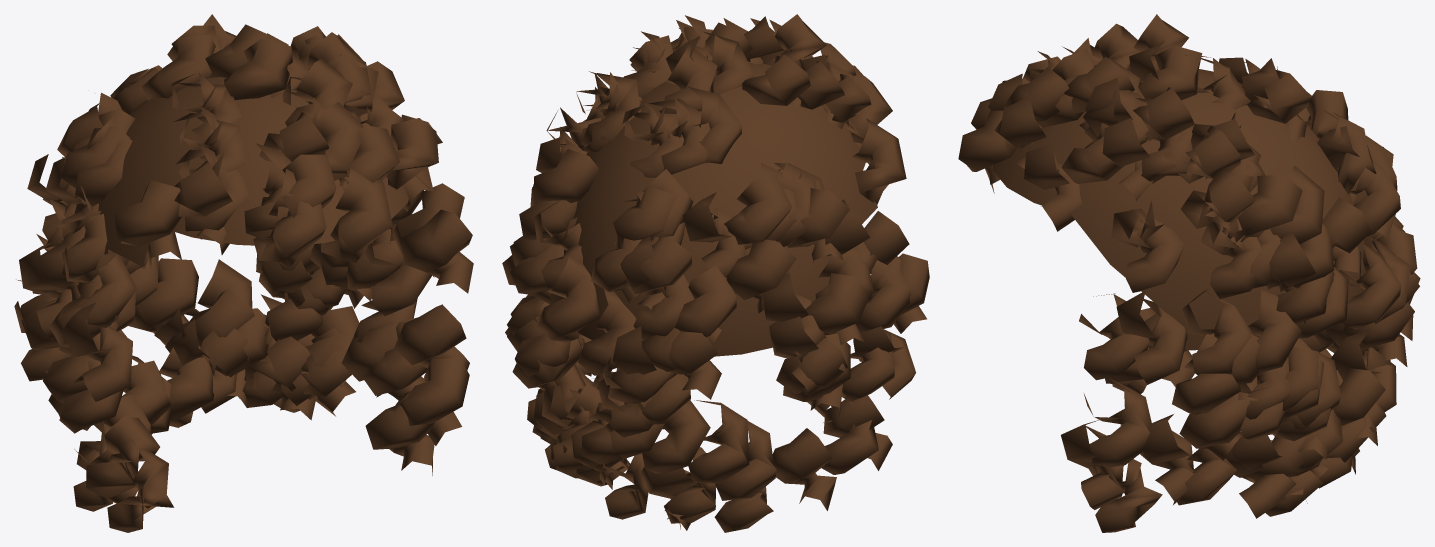
File: curly_m.glb
The picture shows the model from 3 angles, left to right: view 1: azimuth 30°, elevation 25°; view 2: azimuth 150°, elevation 25°; view 3: azimuth 270°, elevation 25°; orthographic projection. The views are drawn at different scales.
Parts seen in each view (by area): view 1: curly_m; view 2: curly_m; view 3: curly_m.
Part boxes in pixels (x1=…): curly_m: x1=14, y1=14, x2=473, y2=532; curly_m: x1=502, y1=14, x2=929, y2=532; curly_m: x1=958, y1=14, x2=1420, y2=532.
Bounding box in the file's own units: 0.2403 × 0.27 × 0.2508.
